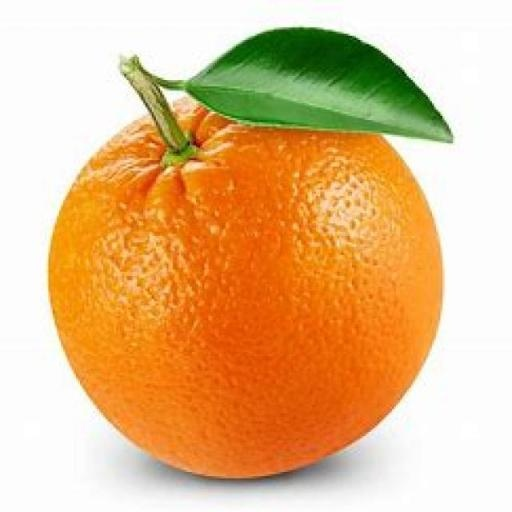fruit: (49, 100, 441, 477)
